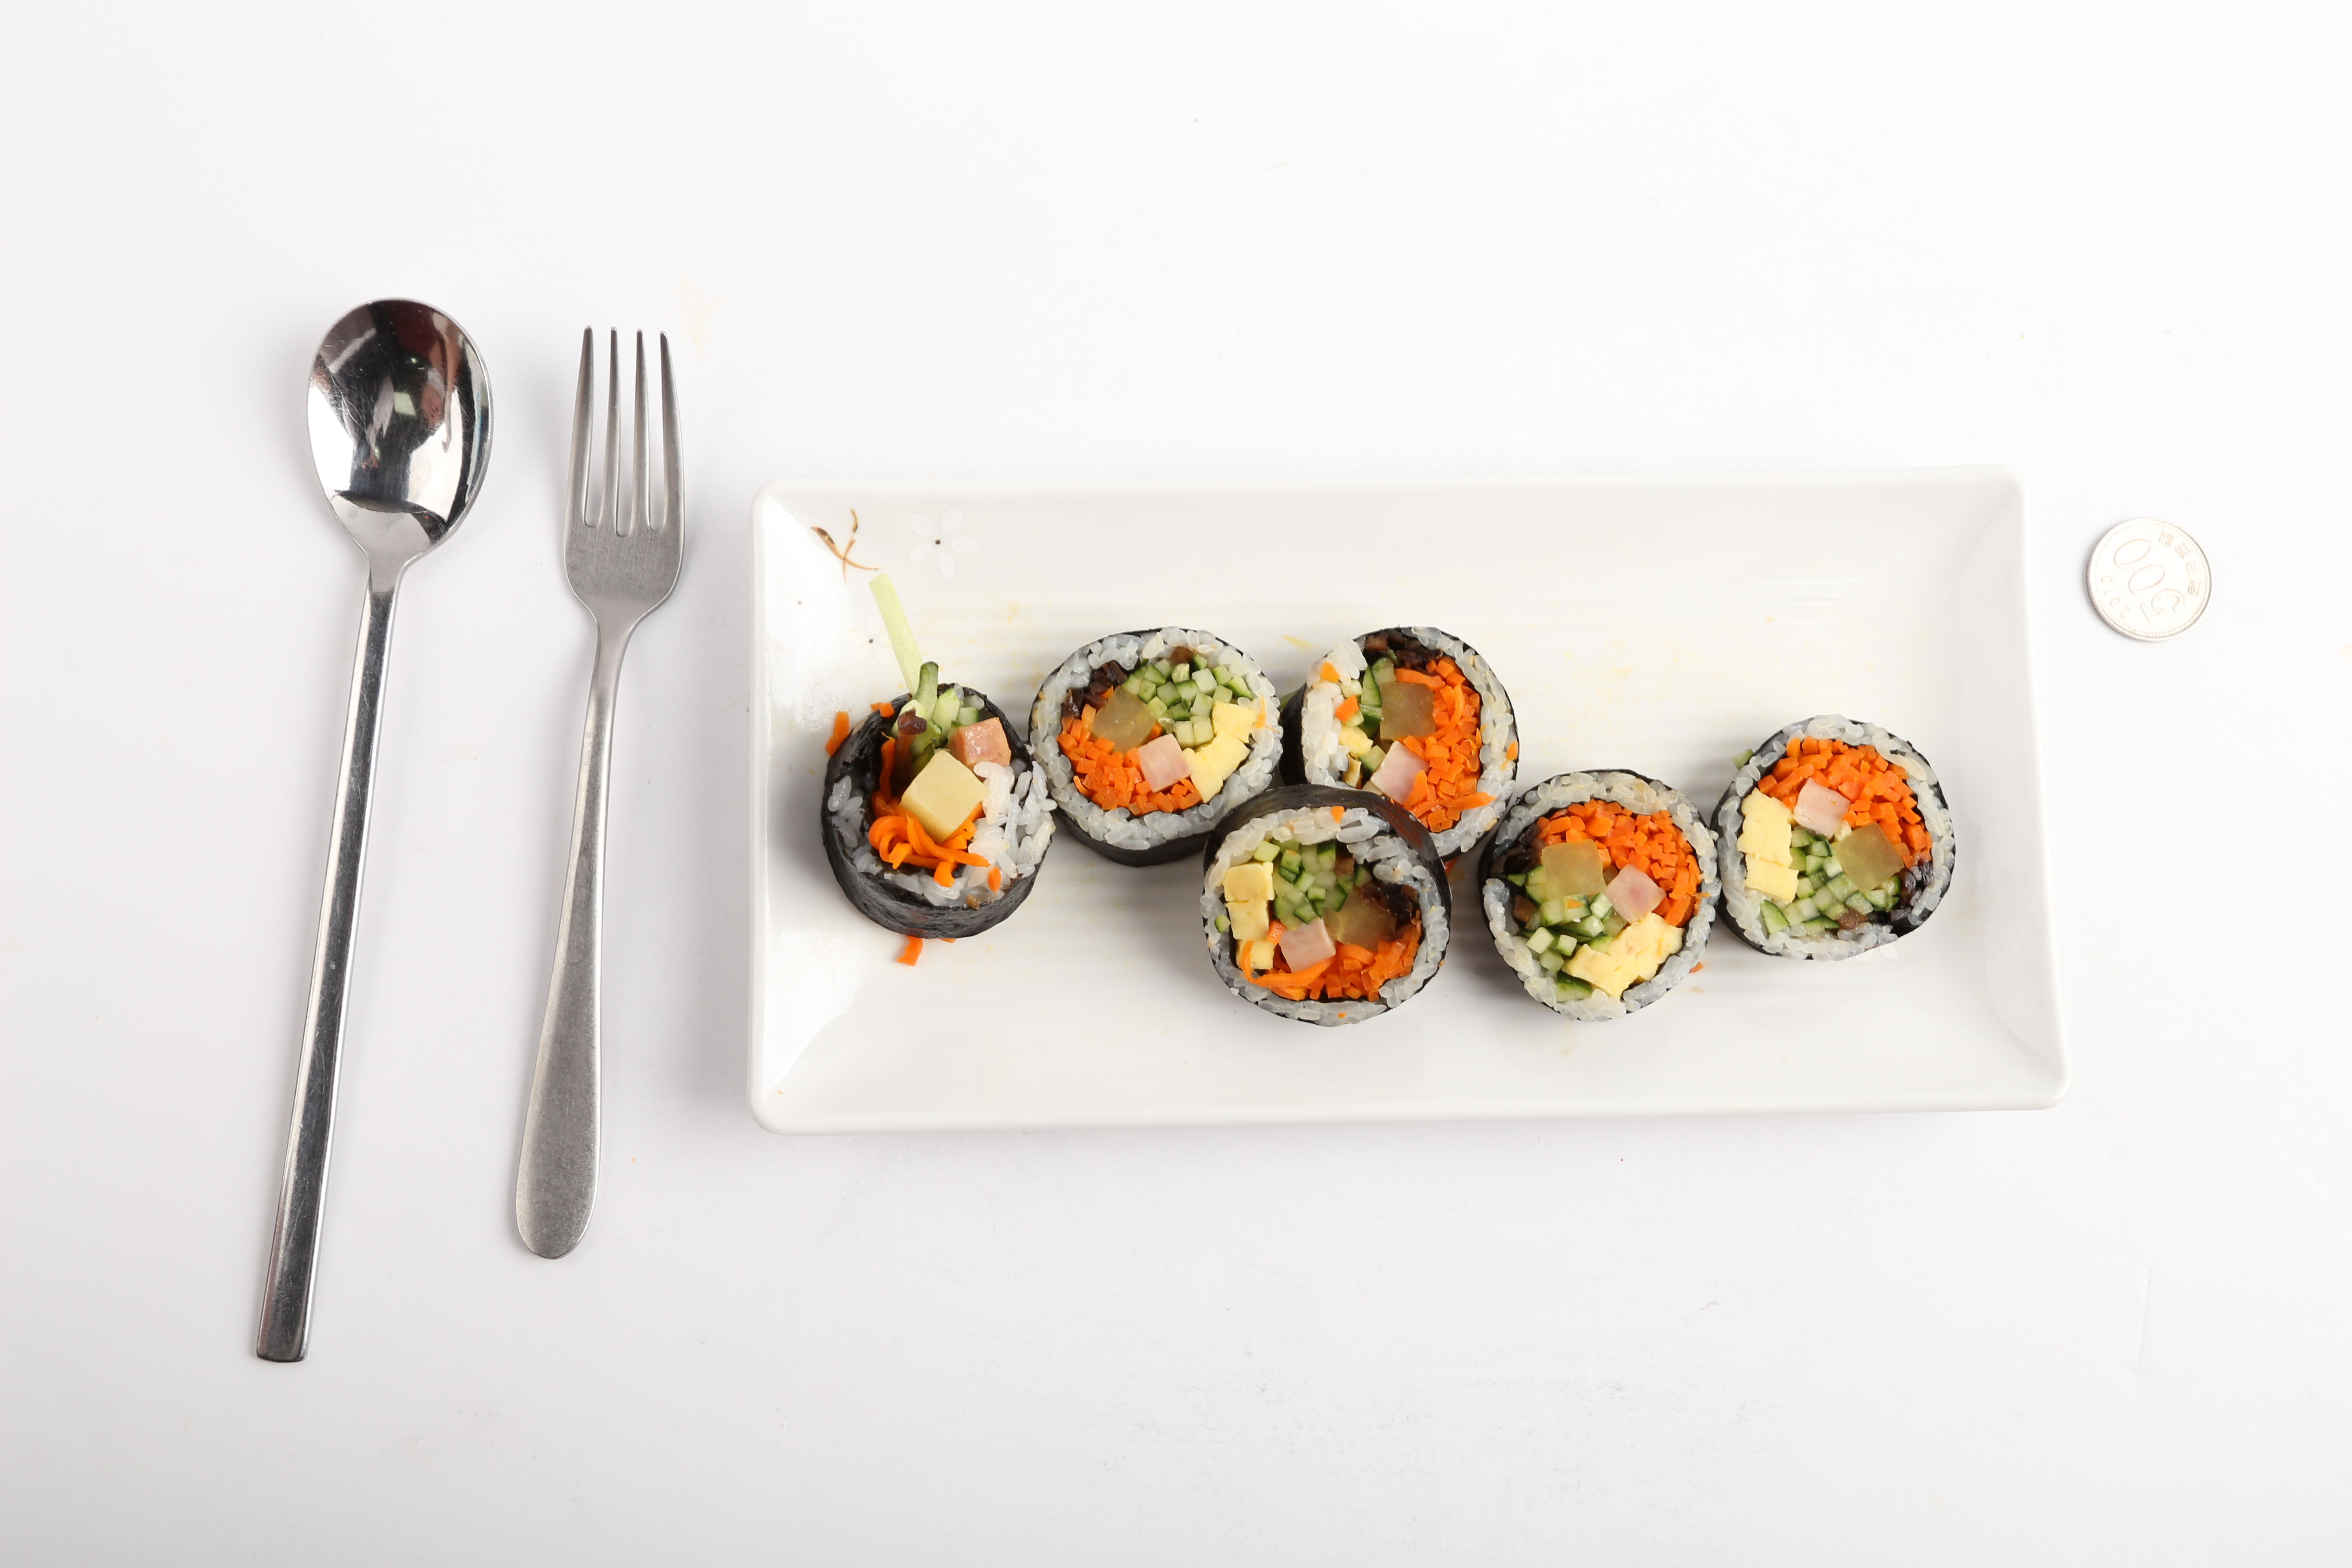dish: (759, 471, 2065, 1136)
ref_coin: (2079, 511, 2215, 644)
ref_fork: (555, 318, 693, 670)
ref_spoon: (299, 294, 499, 616)
김밥: (822, 621, 1955, 1024)
